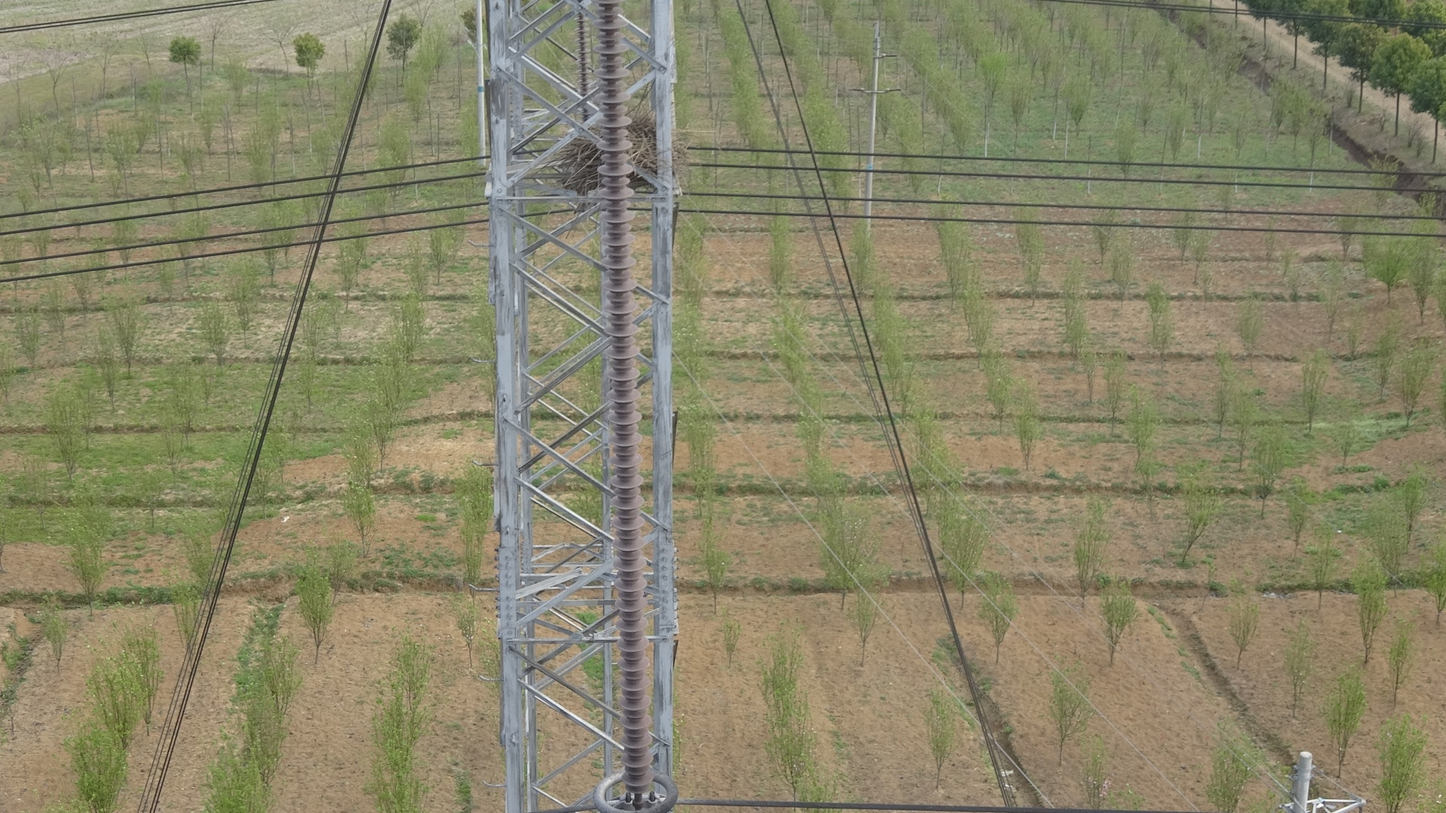insulator: (591, 1, 660, 797), (565, 7, 592, 118)
